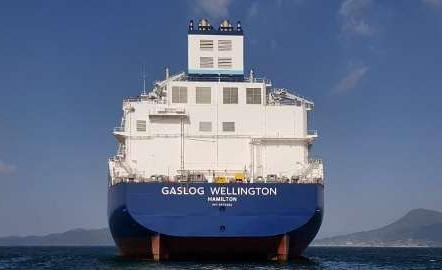Cargoship: (101, 14, 332, 254)
